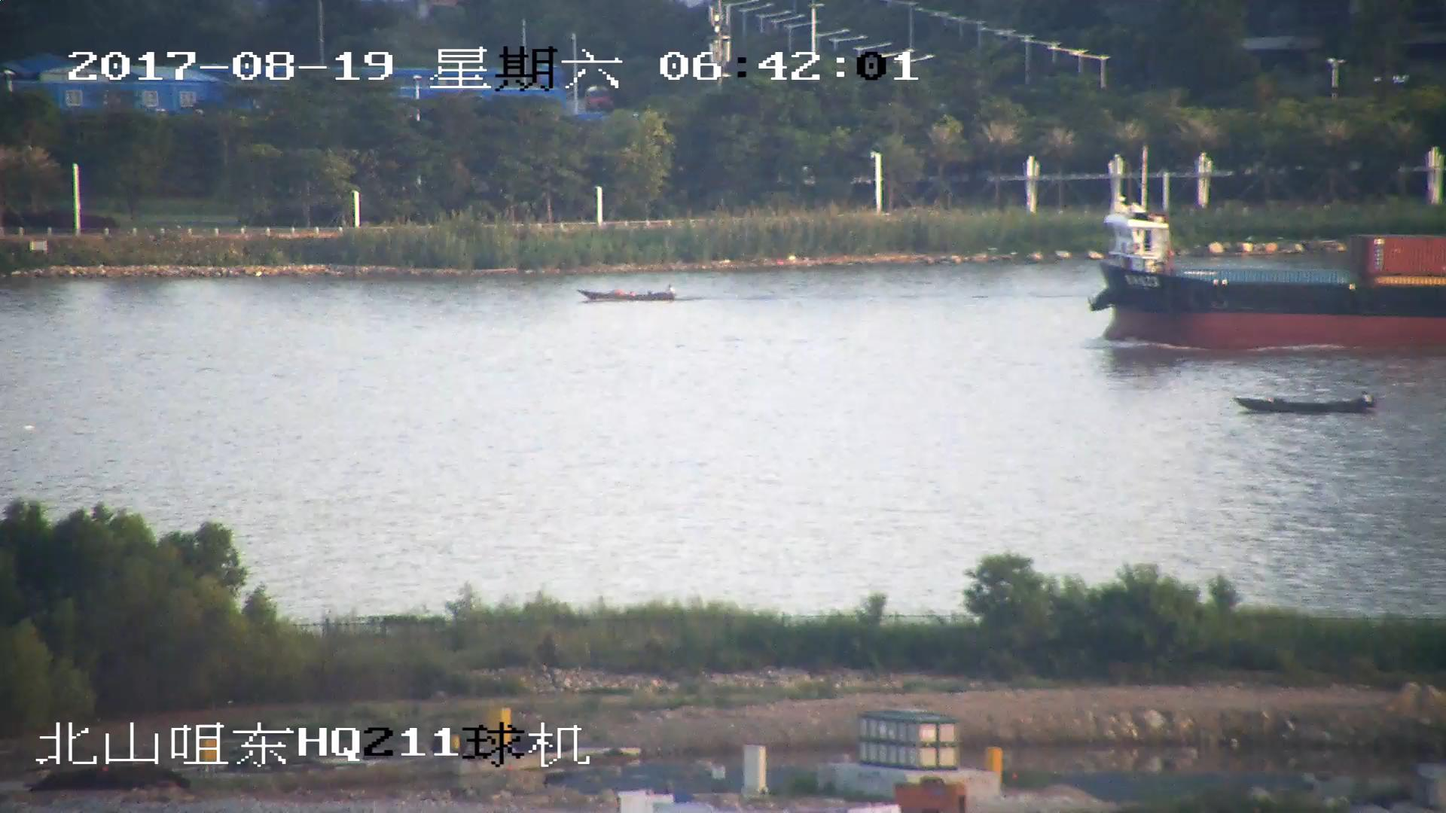container ship: (1088, 196, 1445, 348)
fishing boat: (1236, 388, 1374, 416), (575, 282, 676, 304)
